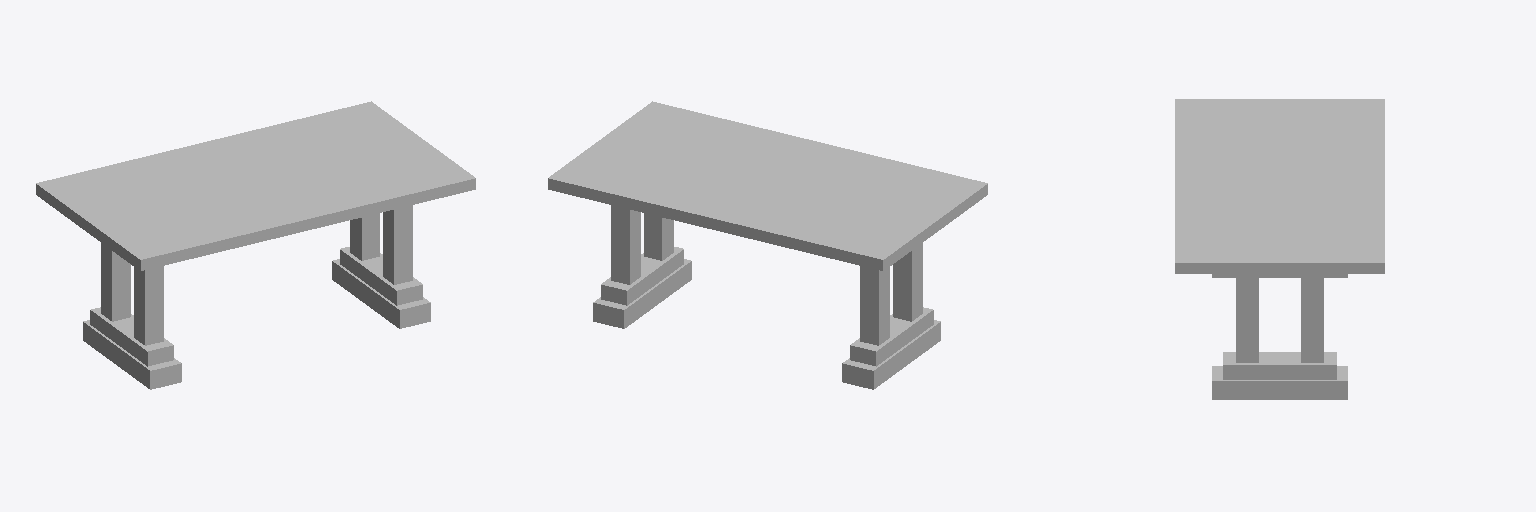
The model's file is table_2.obj.
3 renders of one model, left to right at view 1: azimuth 30°, elevation 25°; view 2: azimuth 150°, elevation 25°; view 3: azimuth 270°, elevation 25°, orthographic.
Parts seen in each view (by area): view 1: Cube.002; view 2: Cube.002; view 3: Cube.002.
Part boxes in pixels (left/top/right/bottom): Cube.002: left=36, top=101, right=475, bottom=389; Cube.002: left=548, top=101, right=987, bottom=389; Cube.002: left=1175, top=99, right=1384, bottom=399.
Bounding box in the file's own units: 2.81 × 1.2 × 1.52.